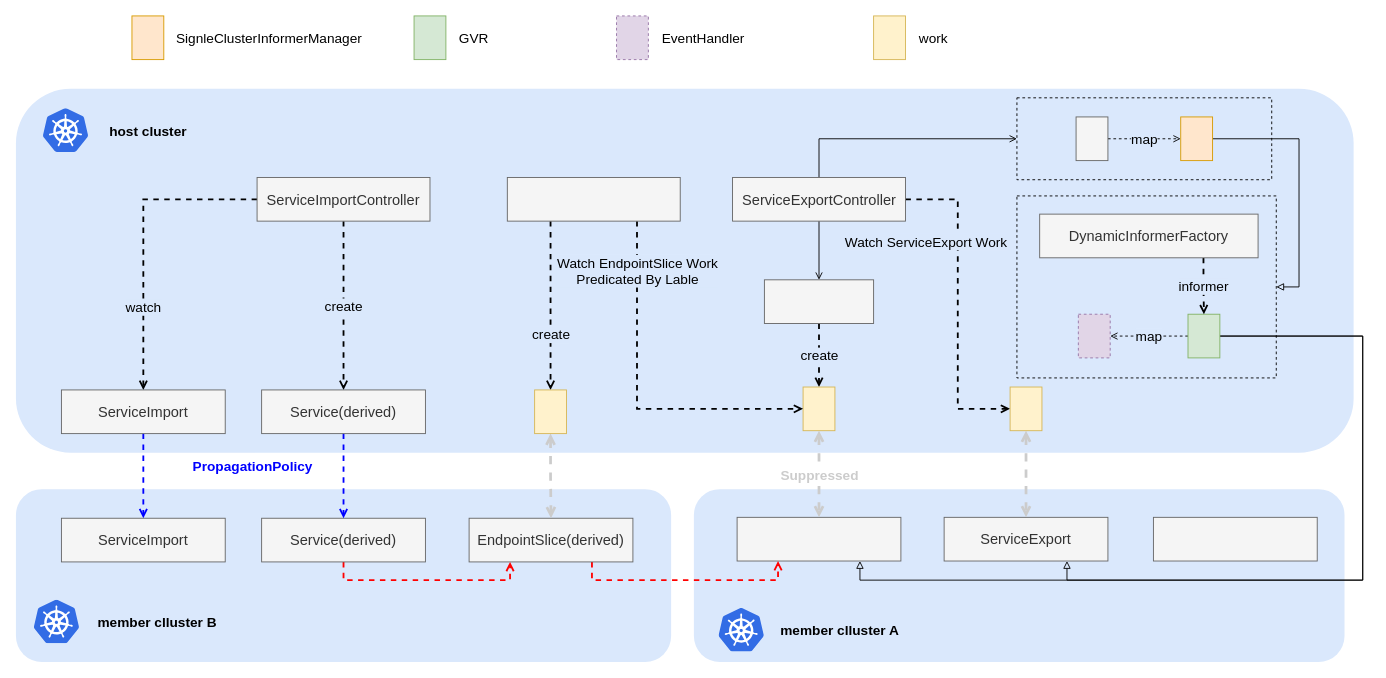
This 1386x678 diagram has some shape labels left out. Here are the shapes that lost their labels. From the top down, the box of each, then its label:
(506, 177, 680, 221): EndpointSliceController
(763, 279, 874, 324): AsyncWorker
(736, 516, 901, 561): EndpointSlice
(1153, 516, 1317, 561): Service
